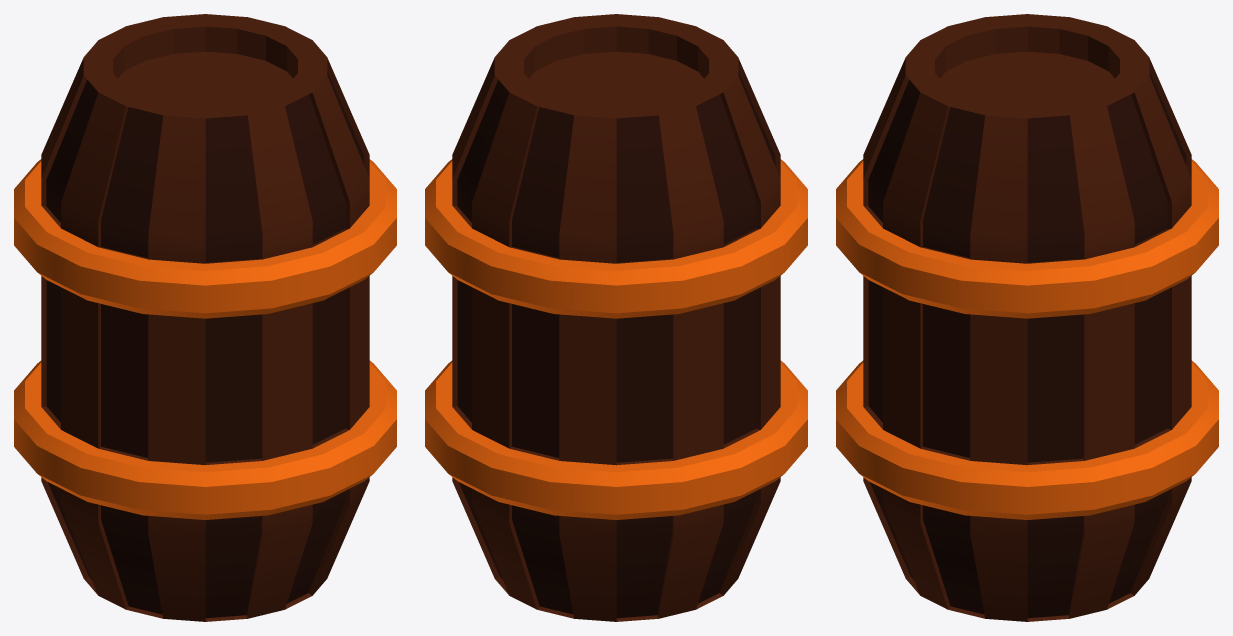
Rendered from Barrell 002.FBX.
3 renders of one model, left to right at view 1: azimuth 30°, elevation 25°; view 2: azimuth 150°, elevation 25°; view 3: azimuth 270°, elevation 25°, orthographic.
Visible parts, largest first — view 1: Barrel; view 2: Barrel; view 3: Barrel.
Part boxes in pixels (left/top/right/bottom): Barrel: left=14, top=14, right=396, bottom=621; Barrel: left=425, top=14, right=807, bottom=621; Barrel: left=836, top=14, right=1218, bottom=621.
Bounding box in the file's own units: 0.7 × 1 × 0.6894.
